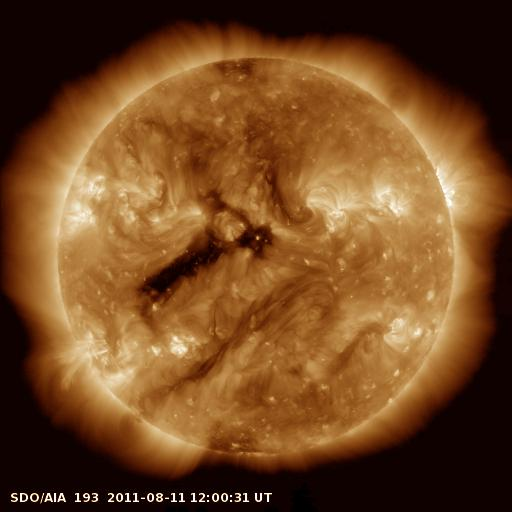coronal_hole: (144, 227, 274, 304)
